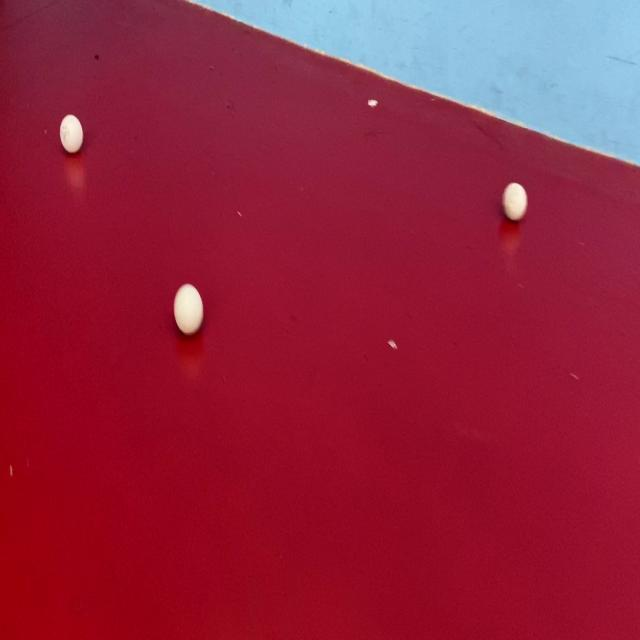ping-pong-ball: (172, 278, 206, 340), (500, 178, 530, 226), (57, 110, 86, 156)
